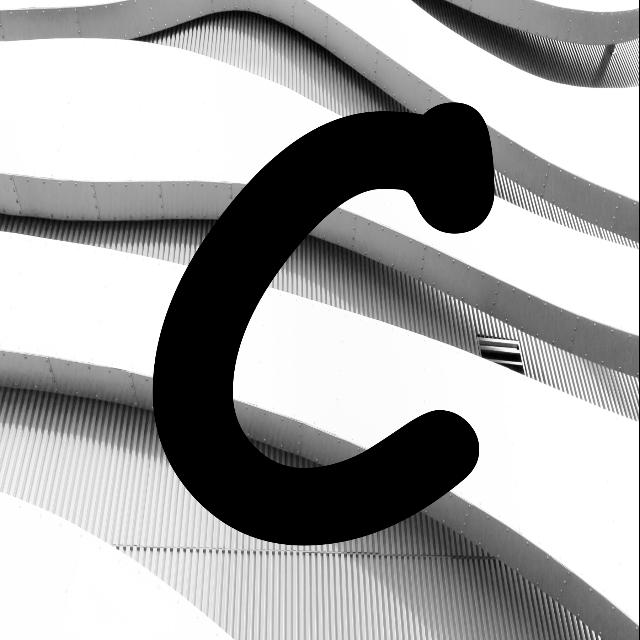C: (152, 102, 494, 545)
